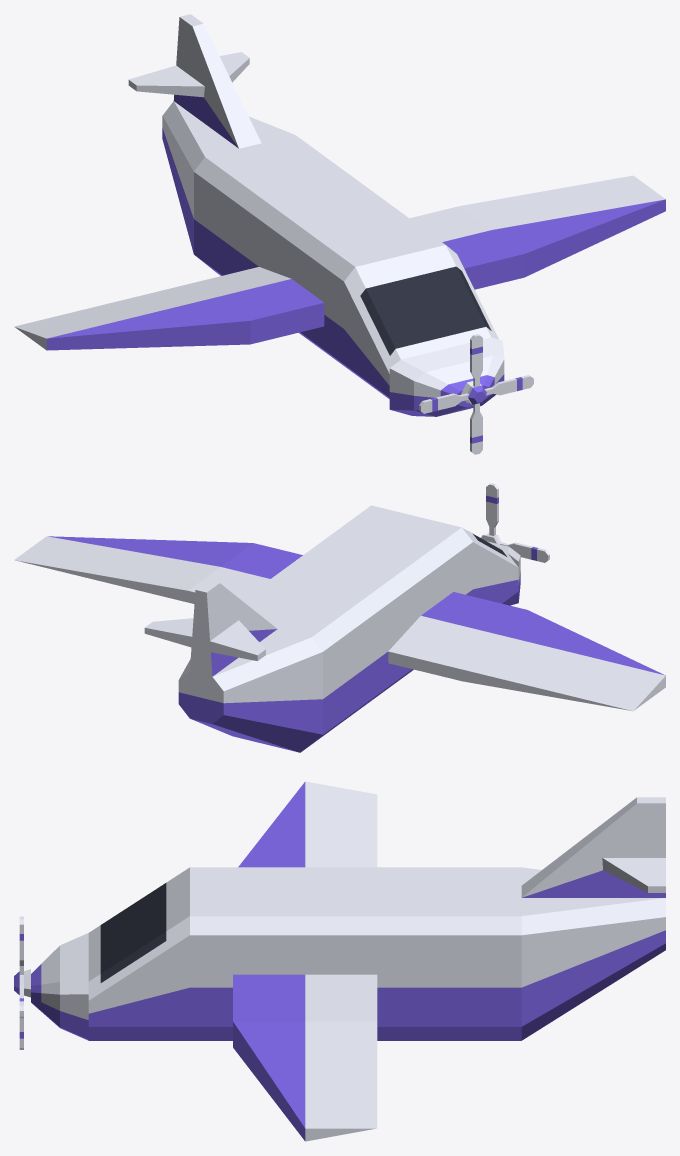
Rendered from planeTest.fbx.
The picture shows the model from 3 angles, top to bottom: view 1: azimuth 30°, elevation 25°; view 2: azimuth 150°, elevation 25°; view 3: azimuth 270°, elevation 25°; orthographic projection. The views are drawn at different scales.
Visible parts, largest first — view 1: wing_long (×2), hull_body (×2), hull_cockpitWide, rudder_sides, hull_frontNose, hull_tailTop, propeller_quad; view 2: wing_long (×2), hull_body (×2), hull_tailTop, rudder_sides, hull_cockpitWide, propeller_quad, hull_frontNose; view 3: hull_body (×2), wing_long (×2), hull_cockpitWide, hull_tailTop, rudder_sides, hull_frontNose, propeller_quad.
Boxes of the visible parts, <box> form: wing_long (×2): <box>14,175,665,350</box>; hull_body (×2): <box>194,135,425,365</box>; hull_cockpitWide: <box>324,230,498,398</box>; rudder_sides: <box>128,14,261,148</box>; hull_frontNose: <box>389,337,504,416</box>; hull_tailTop: <box>162,101,294,253</box>; propeller_quad: <box>419,334,533,454</box>; wing_long (×2): <box>14,536,665,711</box>; hull_body (×2): <box>241,520,453,751</box>; hull_tailTop: <box>178,629,322,752</box>; rudder_sides: <box>144,580,277,676</box>; hull_cockpitWide: <box>352,505,518,603</box>; propeller_quad: <box>468,483,549,562</box>; hull_frontNose: <box>487,541,520,605</box>; hull_body (×2): <box>233,867,521,1040</box>; wing_long (×2): <box>233,781,377,1141</box>; hull_cockpitWide: <box>88,867,232,1040</box>; hull_tailTop: <box>521,867,665,1040</box>; rudder_sides: <box>521,797,665,897</box>; hull_frontNose: <box>31,933,88,1040</box>; propeller_quad: <box>14,916,30,1049</box>.
Bounding box in the file's own units: 54.78 × 19 × 45.19.
